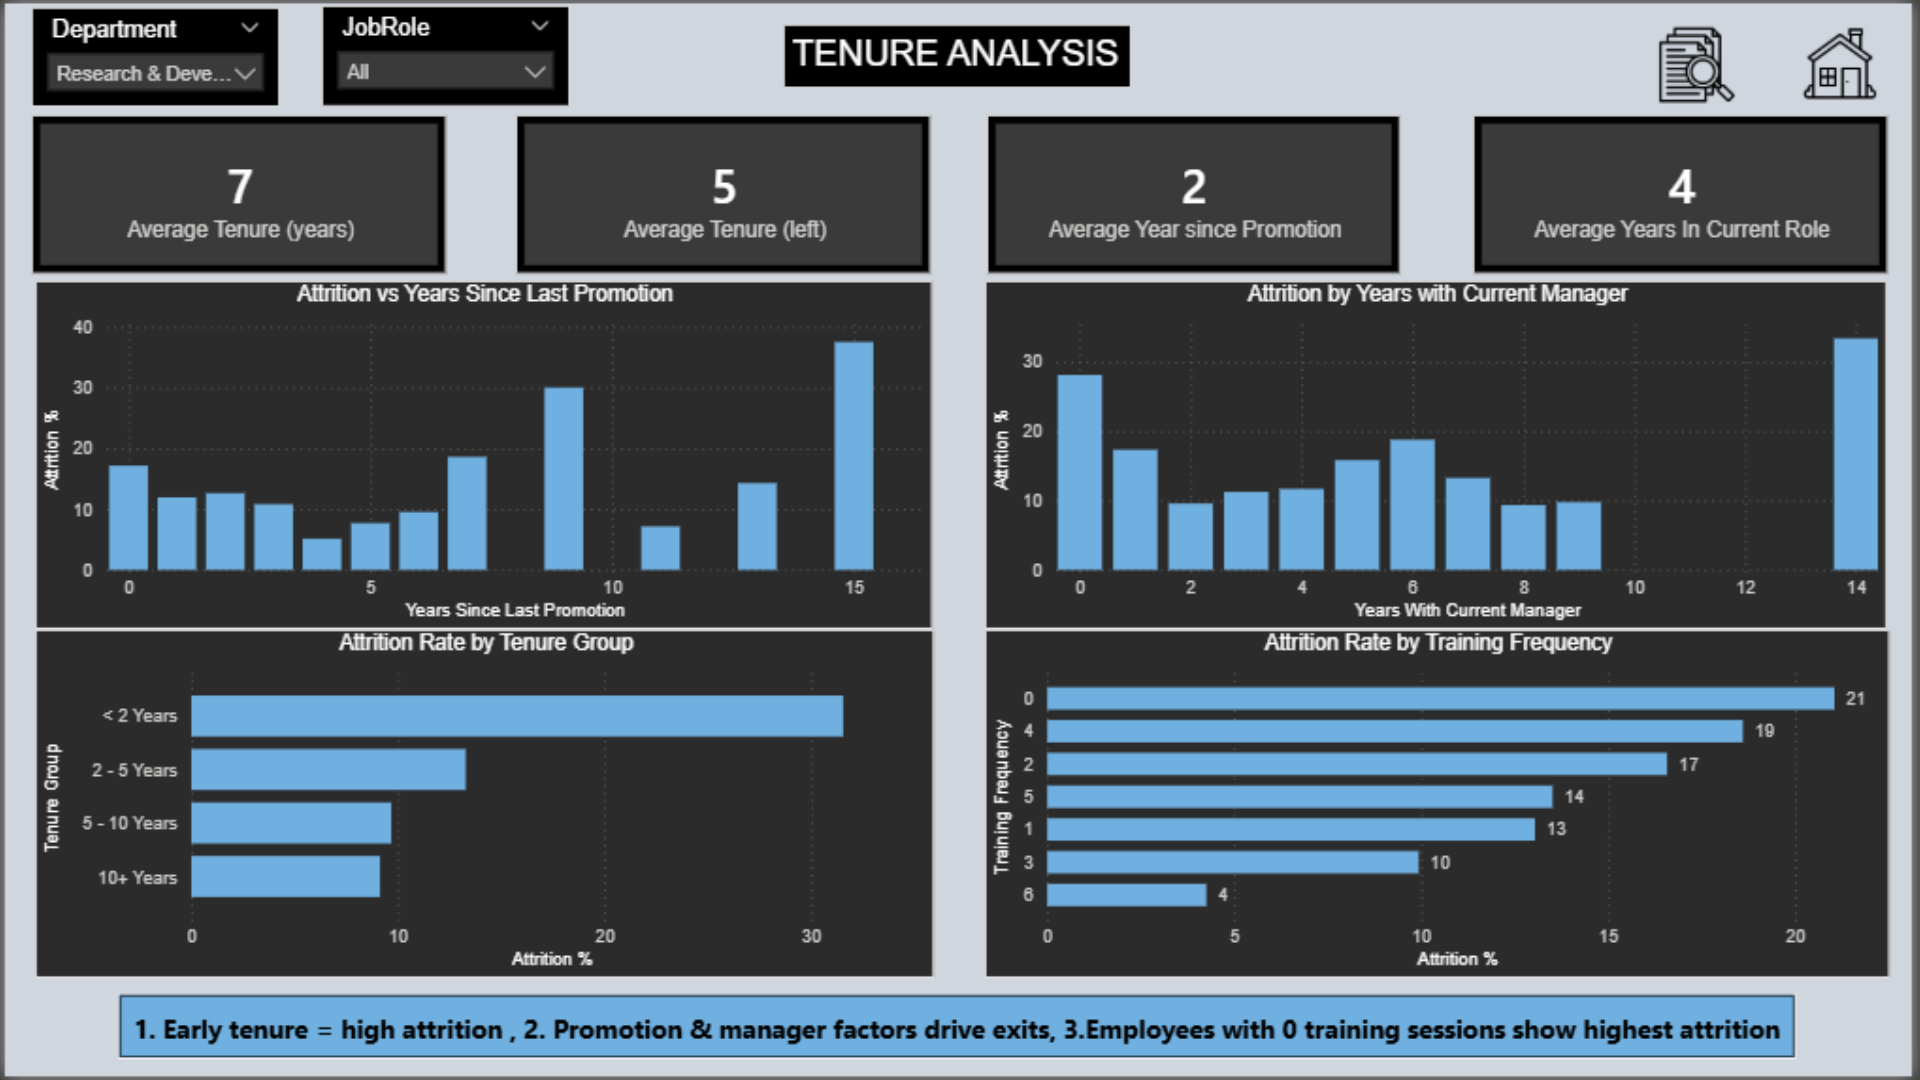

What the dashboard file says about the page in this screenshot:
{"tool":"powerbi","page":{"name":"Tenure Analysis","canvas":[1280,720],"ordinal":3},"visuals":[{"type":"cardVisual","fields":{"Data":["Tenure Analysis Measures.Average Tenure"]},"box":[17.9,75.1,279.4,107.4],"z":0},{"type":"cardVisual","fields":{"Data":["Tenure Analysis Measures.Average Tenure (left)"]},"box":[342.7,75.1,279.4,107.4],"z":1000},{"type":"cardVisual","fields":{"Data":["Tenure Analysis Measures.Average Year since Promotion"]},"box":[659.3,75.1,278,107.4],"z":2000},{"type":"cardVisual","fields":{"Data":["Avg(Employees_Database.YearsInCurrentRole)"]},"box":[985.5,75.1,279.4,107.4],"z":3000},{"type":"textbox","box":[523,13.8,234,42.7],"z":4000},{"type":"clusteredBarChart","title":"Attrition Rate by Tenure Group","fields":{"Category":["Employees_Database.Tenure Group"],"Y":["Overview Measures.Attrition %"]},"box":[20.3,420.3,603.8,234.2],"z":5000},{"type":"clusteredColumnChart","title":"Attrition vs Years Since Last Promotion","fields":{"Y":["Overview Measures.Attrition %"],"Category":["Employees_Database.YearsSinceLastPromotion"]},"box":[20.3,186.1,602.5,234.2],"z":6000},{"type":"clusteredColumnChart","title":"Attrition by Years with Current Manager","fields":{"Y":["Overview Measures.Attrition %"],"Category":["Employees_Database.YearsWithCurrManager"]},"box":[658.2,186.1,606.3,234.2],"z":7000},{"type":"slicer","fields":{"Values":["Employees_Database.Department"]},"box":[17.7,2.7,167.1,66.6],"z":8000},{"type":"slicer","fields":{"Values":["Employees_Database.JobRole"]},"box":[213.3,1.4,167.1,67.9],"z":9000},{"type":"shape","box":[75.7,664.3,1127.1,44.3],"z":10000},{"type":"image","box":[1204.3,15.1,57.8,52.3],"z":11000},{"type":"image","box":[1108,15.1,57.8,52.3],"z":12000},{"type":"clusteredBarChart","title":"Attrition Rate by Training Frequency","fields":{"Y":["Overview Measures.Attrition %"],"Category":["Employees_Database.TrainingTimesLastYear"]},"box":[658.2,420.3,607.6,234.2],"z":13000}]}

Visuals, with their boxes in screenshot pixels (x1, y1, x2, y2), scaled from the page's 1280x720 canvas onto the 1920x1080 screenshot:
cardVisual - Tenure Analysis Measures.Average Tenure: rect(27, 113, 446, 274)
cardVisual - Tenure Analysis Measures.Average Tenure (left): rect(514, 113, 933, 274)
cardVisual - Tenure Analysis Measures.Average Year since Promotion: rect(989, 113, 1406, 274)
cardVisual - Avg(Employees_Database.YearsInCurrentRole): rect(1478, 113, 1897, 274)
textbox: rect(784, 21, 1136, 85)
"Attrition Rate by Tenure Group" clusteredBarChart: rect(30, 630, 936, 982)
"Attrition vs Years Since Last Promotion" clusteredColumnChart: rect(30, 279, 934, 630)
"Attrition by Years with Current Manager" clusteredColumnChart: rect(987, 279, 1897, 630)
slicer - Employees_Database.Department: rect(27, 4, 277, 104)
slicer - Employees_Database.JobRole: rect(320, 2, 571, 104)
shape: rect(114, 996, 1804, 1063)
image: rect(1806, 23, 1893, 101)
image: rect(1662, 23, 1749, 101)
"Attrition Rate by Training Frequency" clusteredBarChart: rect(987, 630, 1899, 982)
